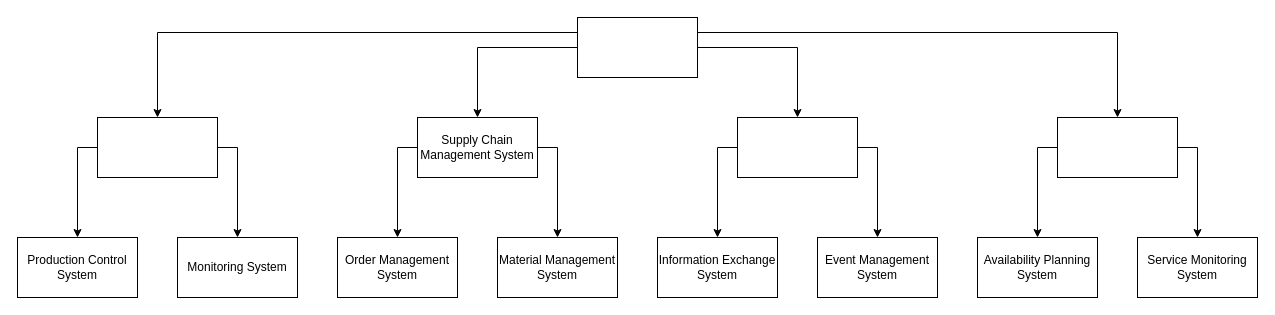
Image size: 1275x315. Some labels were removed from this diagram. Here are the shapes that lost their labels. From the top down, the centre of each, then its label:
(637,47): Production System
(157,147): Production Management System
(797,147): Communication Management System
(1117,147): Availability Management System
